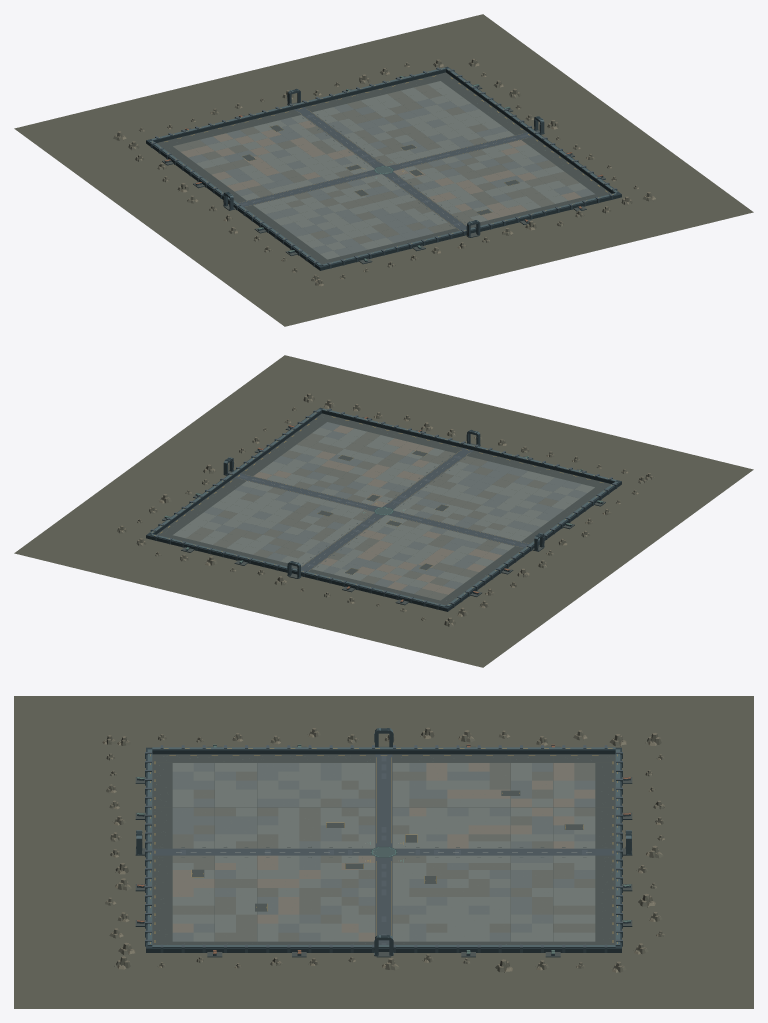
File: CargoTerminal.fbx
3 renders of one model, top to bottom at view 1: azimuth 30°, elevation 25°; view 2: azimuth 150°, elevation 25°; view 3: azimuth 270°, elevation 25°, orthographic. The views are drawn at different scales.
Parts seen in each view (by area): view 1: Deck, Perimeter, Reused Kenney modules, Wayfinding; view 2: Deck, Perimeter, Reused Kenney modules, Wayfinding; view 3: Deck, Perimeter, Reused Kenney modules, Wayfinding.
Boxes of the visible parts, <box> form: Deck: <box>14,14,753,326</box>; Perimeter: <box>146,66,621,270</box>; Reused Kenney modules: <box>113,58,655,286</box>; Wayfinding: <box>158,75,607,246</box>; Deck: <box>14,355,753,667</box>; Perimeter: <box>146,407,621,611</box>; Reused Kenney modules: <box>117,393,654,626</box>; Wayfinding: <box>160,416,602,600</box>; Deck: <box>14,696,753,1008</box>; Perimeter: <box>135,745,632,957</box>; Reused Kenney modules: <box>102,727,665,972</box>; Wayfinding: <box>154,755,613,944</box>.
Bounding box in the file's own units: 35000 × 1041 × 35000.
1 material, 1 textured.
